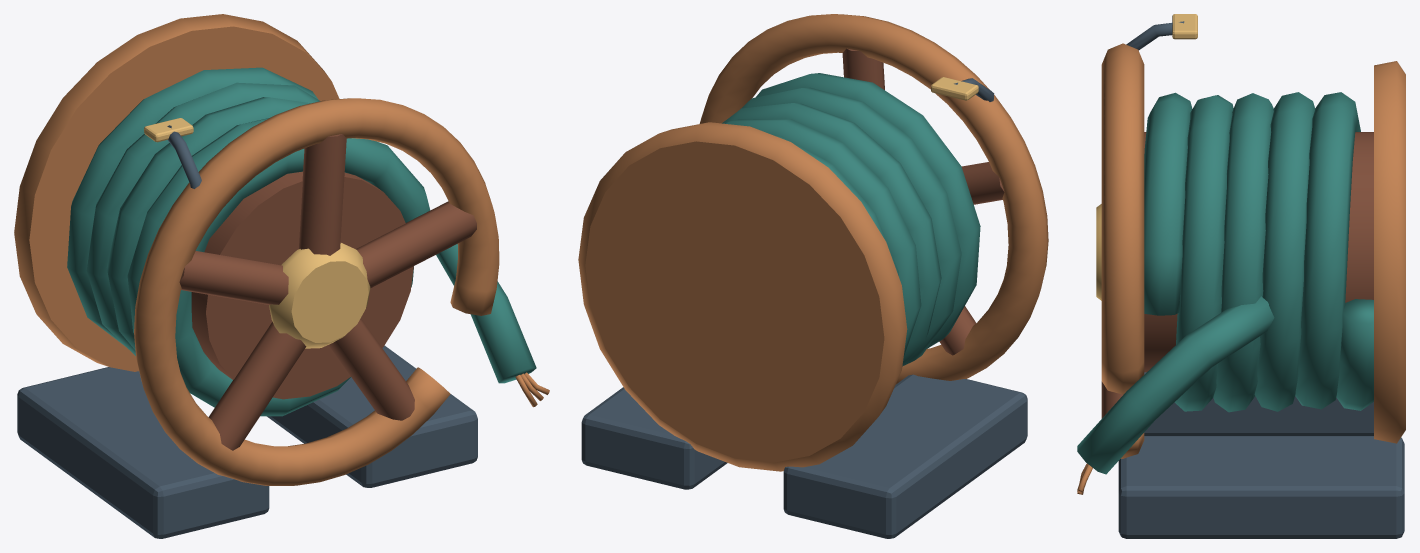
3 renders of one model, left to right at view 1: azimuth 30°, elevation 25°; view 2: azimuth 150°, elevation 25°; view 3: azimuth 270°, elevation 25°, orthographic. The views are drawn at different scales.
Parts seen in each view (by area): view 1: PR023 workshop surfaces; view 2: PR023 workshop surfaces; view 3: PR023 workshop surfaces.
Part boxes in pixels (box(x1,y1,x2,y2)): PR023 workshop surfaces: box(14, 14, 549, 538); PR023 workshop surfaces: box(578, 14, 1048, 538); PR023 workshop surfaces: box(1077, 14, 1405, 538).
Size of the model in its own units: 1.18 by 1.15 by 0.857.
